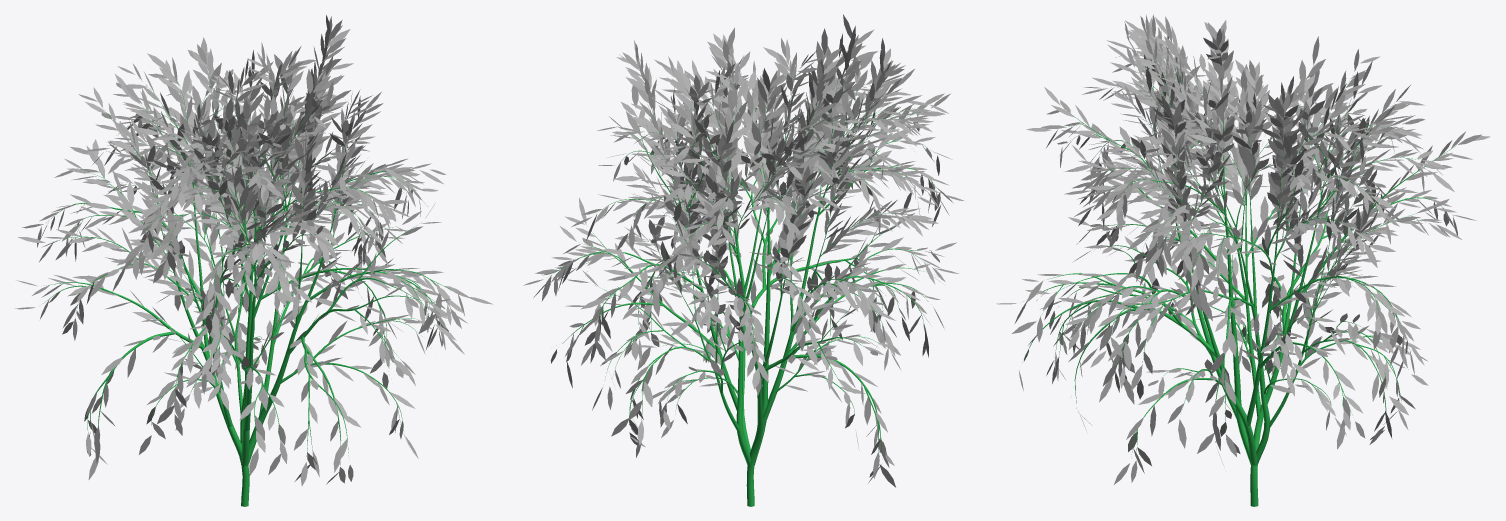
Rendered from Tree_lighter_v05.fbx.
3 renders of one model, left to right at view 1: azimuth 30°, elevation 25°; view 2: azimuth 150°, elevation 25°; view 3: azimuth 270°, elevation 25°, orthographic. The views are drawn at different scales.
Visible parts, largest first — view 1: Tree_lighter_v05; view 2: Tree_lighter_v05; view 3: Tree_lighter_v05.
Part boxes in pixels (left/top/right/bottom): Tree_lighter_v05: left=15, top=15, right=492, bottom=506; Tree_lighter_v05: left=523, top=14, right=964, bottom=506; Tree_lighter_v05: left=996, top=14, right=1490, bottom=506.
Bounding box in the file's own units: 39.88 × 48.04 × 45.92.
Materials: 2 (1 with a texture image).
